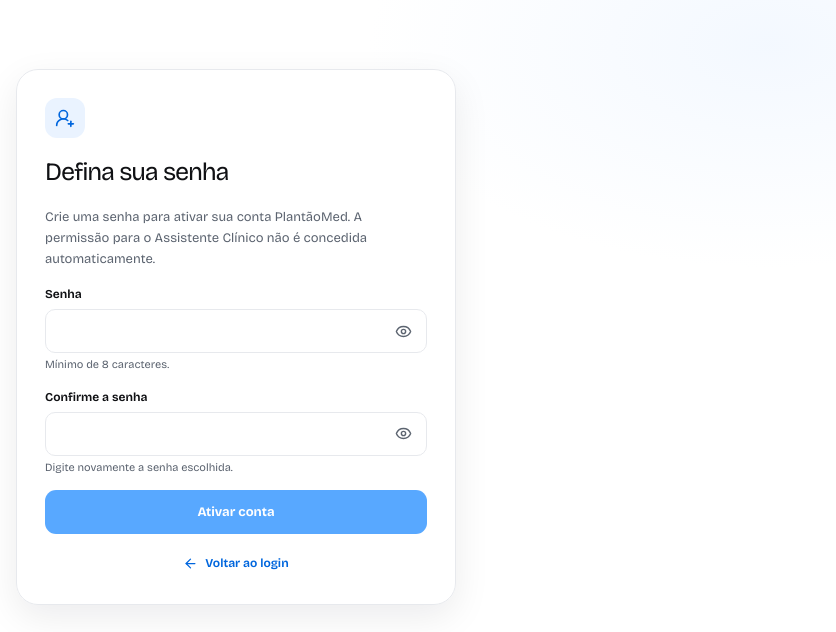
Test case: Netlify Identity invitation and password reset pages › accepts a valid invitation, validates matching passwords, and does not grant a clinical role
expect the heading "Defina sua senha" is shown: met, box [45,156,228,186]
In the password field labelled "Senha": (236,331) [45,309,427,353], type "Strong-password-2026"
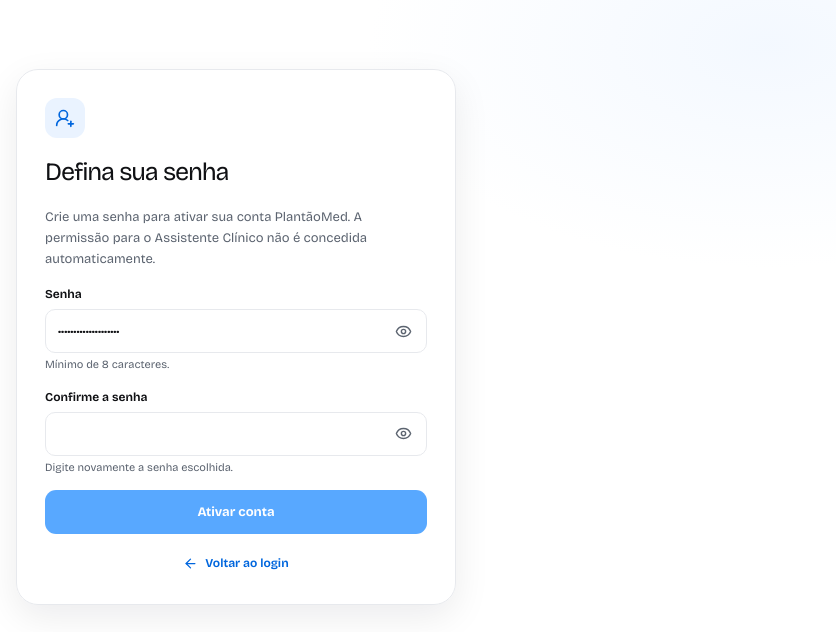
In the password field labelled "Confirme a senha": (236,434) [45,412,427,456], type "Different-password-2026"
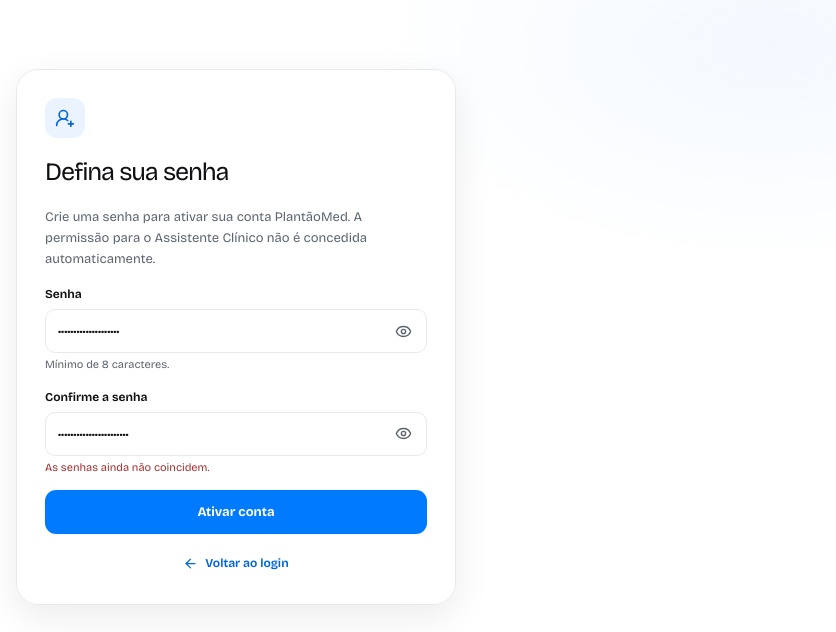
expect the text "As senhas ainda não coincidem." is shown: met, box [45,461,209,474]
In the password field labelled "Confirme a senha": (236,434) [45,412,427,456], type "Strong-password-2026"
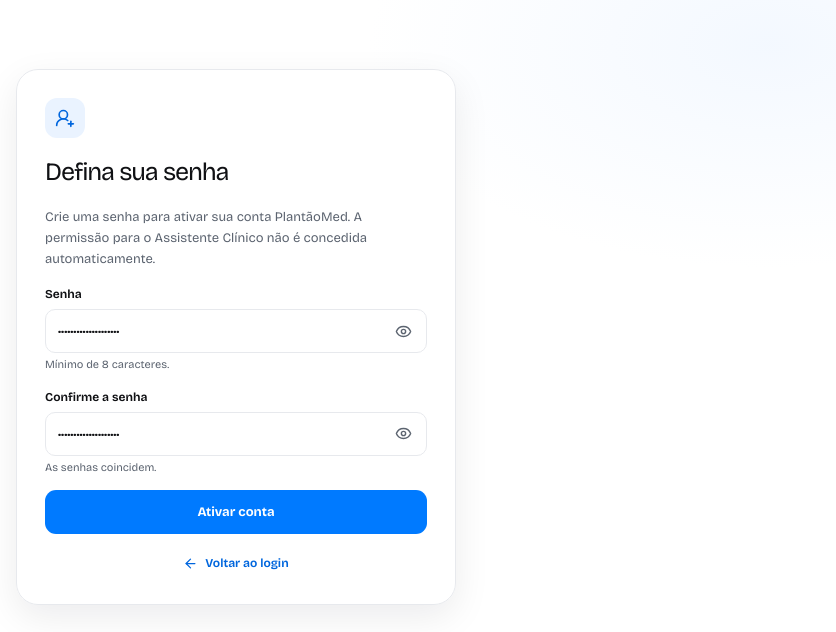
Click the button named "Mostrar senha": (403,331) [386,314,420,348]
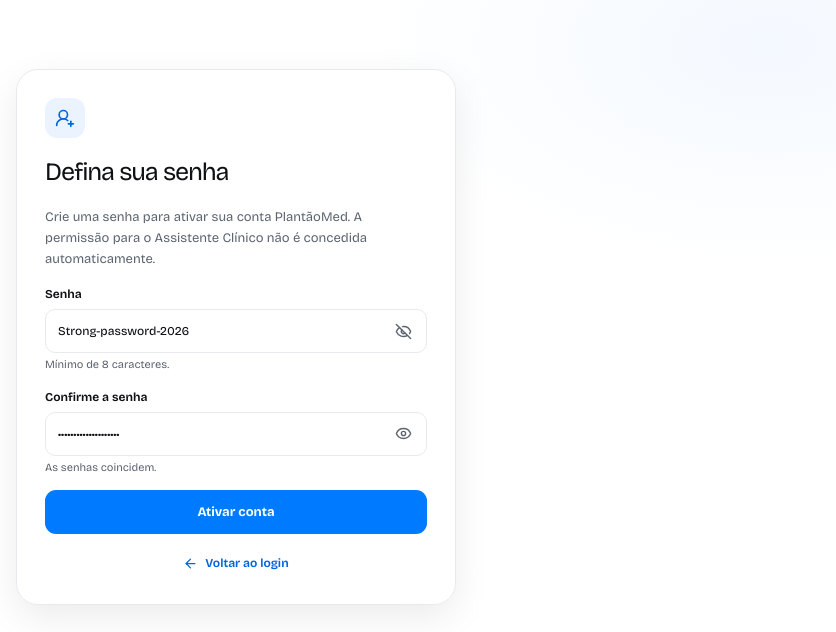
expect the field labelled "Senha" shows its text: met, box [45,309,427,353]
Click the button "Ativar conta": (236,512) [45,490,427,534]
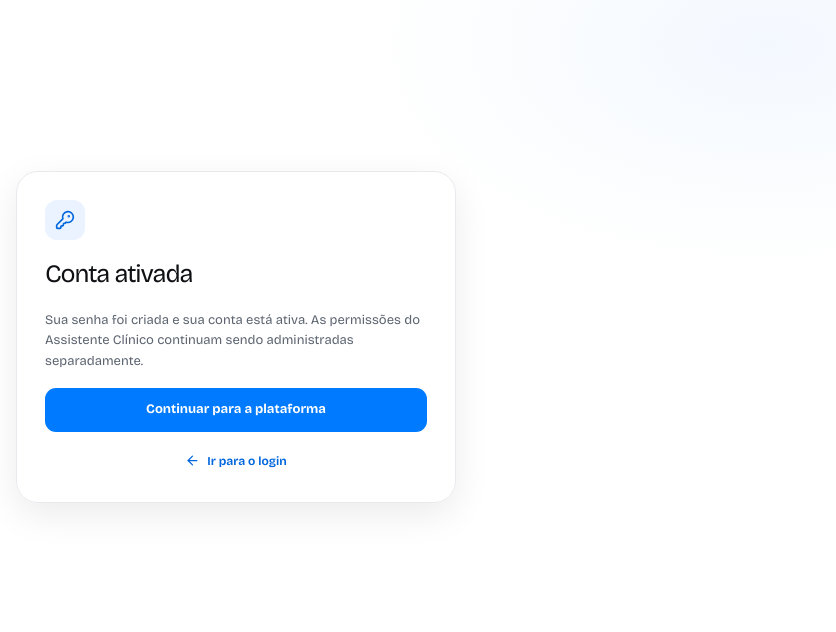
expect the heading "Conta ativada" is shown: met, box [45,259,192,289]
expect the text "administradas separadamente" is shown: met, box [45,312,420,369]
expect the button "Continuar para a plataforma" is shown: met, box [45,388,427,432]
